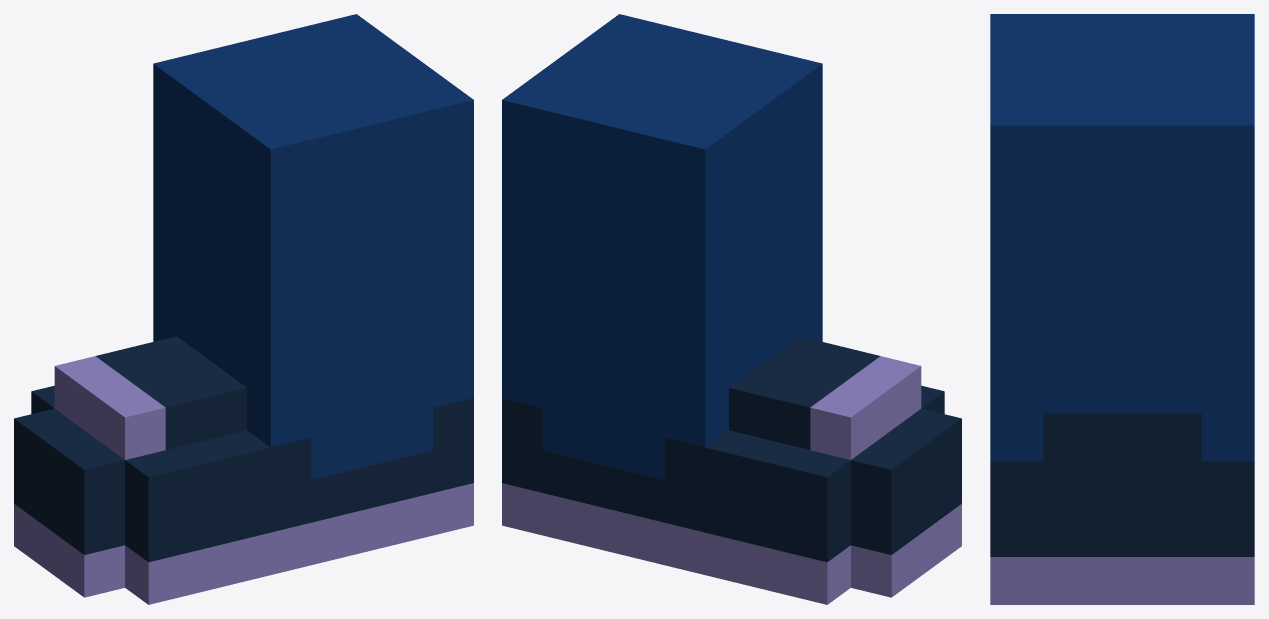
The model's file is leg.obj.
3 views of the same model, side by side, from view 1: azimuth 30°, elevation 25°; view 2: azimuth 150°, elevation 25°; view 3: azimuth 270°, elevation 25° (orthographic). The views are drawn at different scales.
Parts seen in each view (by area): view 1: untitled-0; view 2: untitled-0; view 3: untitled-0.
Boxes of the visible parts, x1,y1,x2,y2 form: untitled-0: [14, 14, 473, 604]; untitled-0: [502, 14, 961, 604]; untitled-0: [990, 14, 1254, 604].
Size of the model in its own units: 0.9 by 1 by 0.5.
